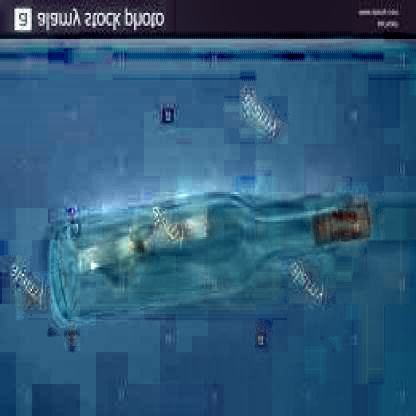gbottle: (52, 196, 369, 321)
